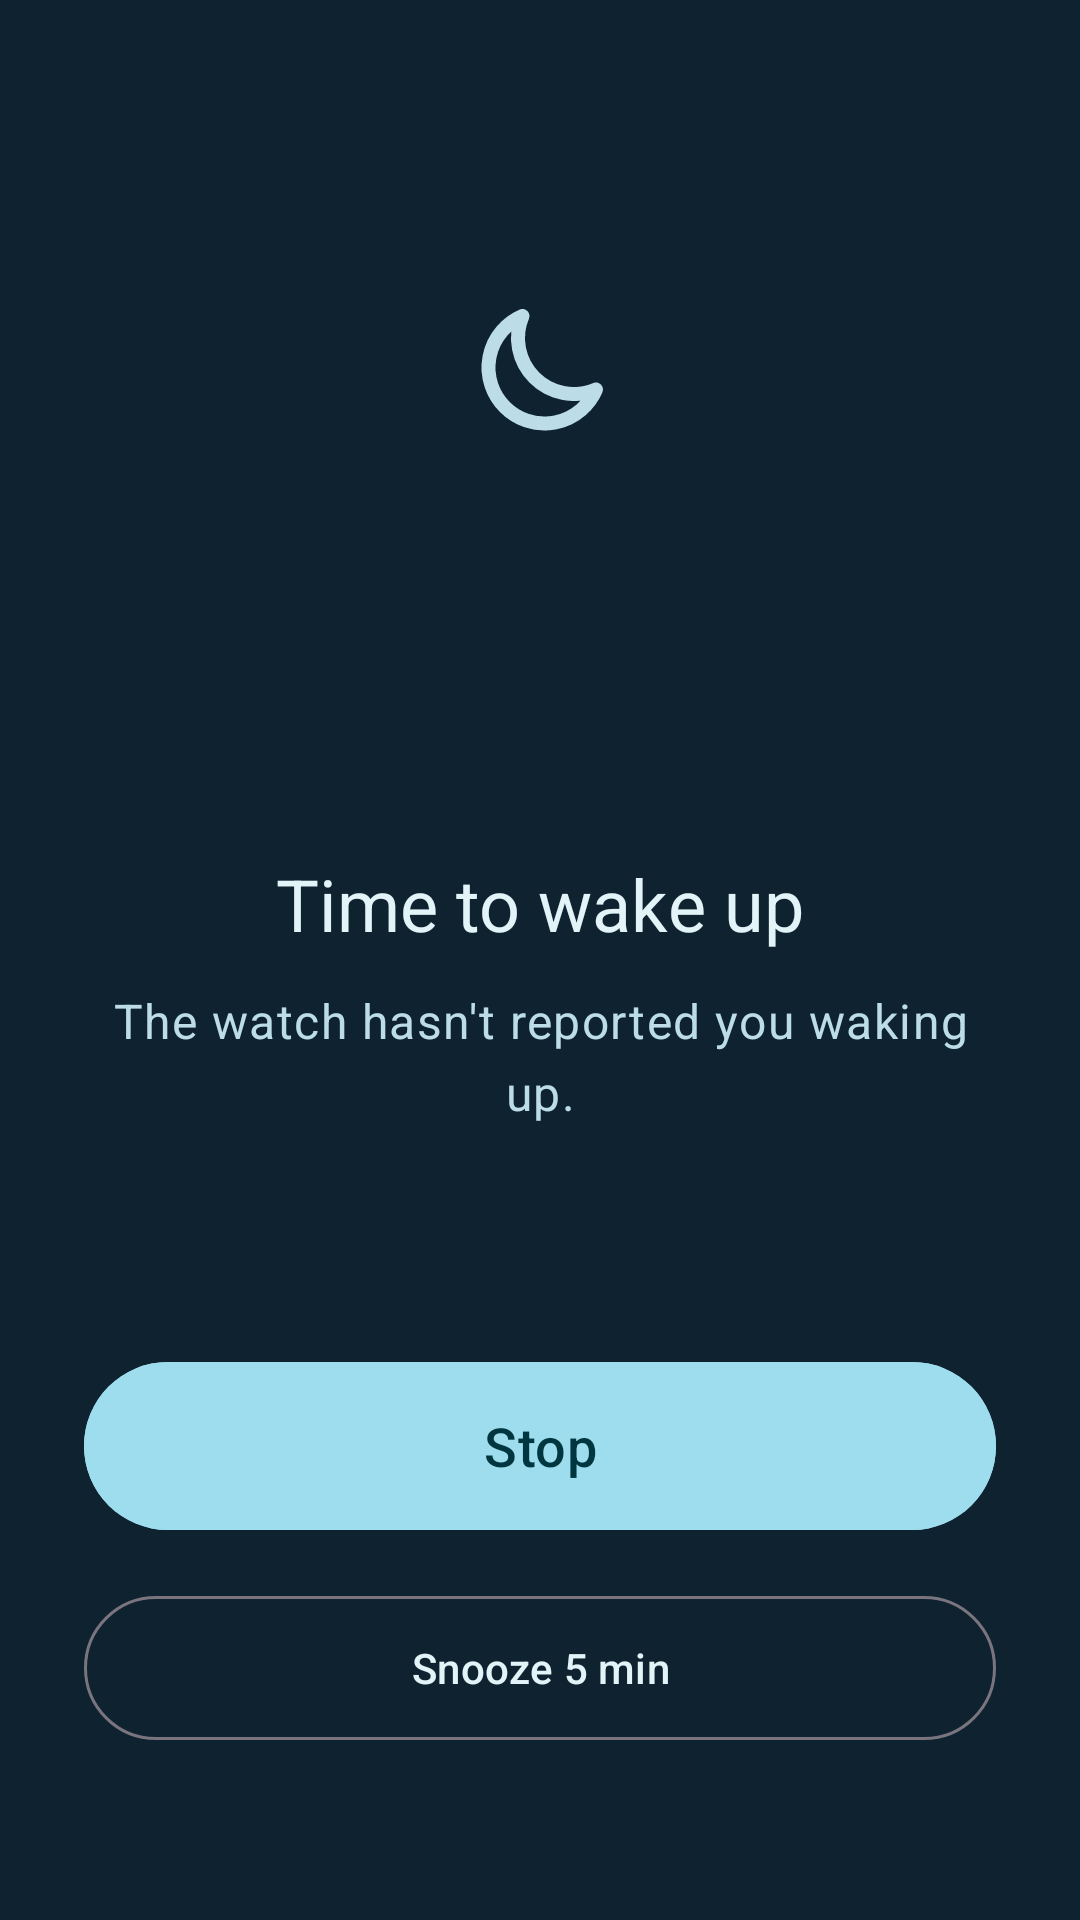

Icons on this 1080×1920 Android screen, each with the point to tap as (x=x, y=y):
night: (x=542, y=370)
